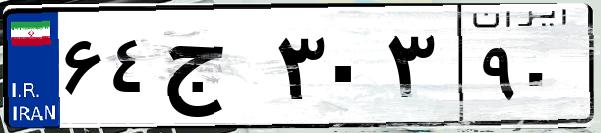0: (330, 28, 385, 110), (525, 38, 570, 115)
3: (270, 28, 330, 110), (385, 28, 445, 110)
4: (110, 28, 158, 98)
6: (57, 26, 110, 100)
9: (475, 38, 525, 113)
ج: (158, 20, 270, 120)
